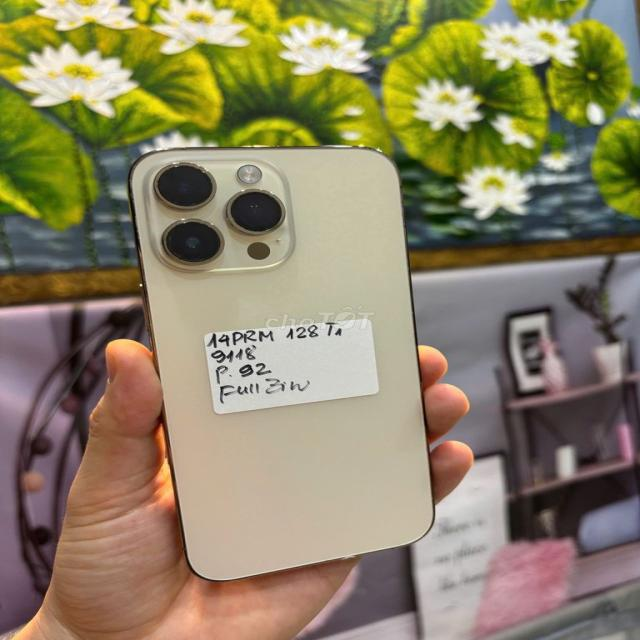gen_14: (125, 133, 439, 584)
